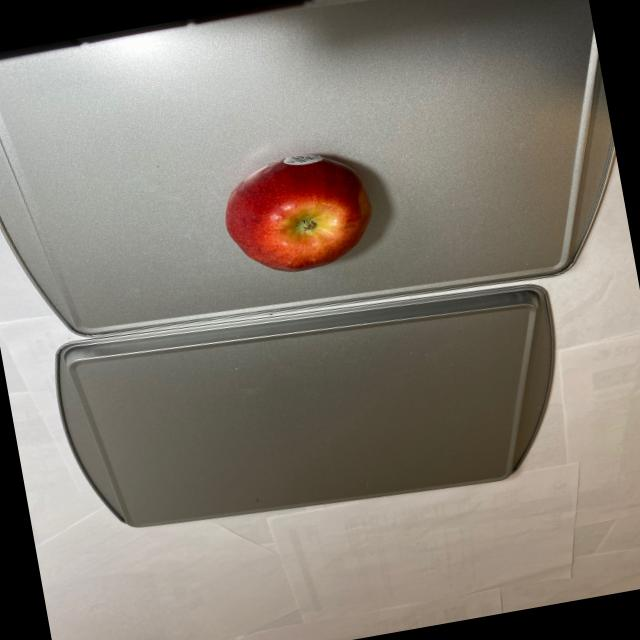apple: (214, 141, 386, 285)
